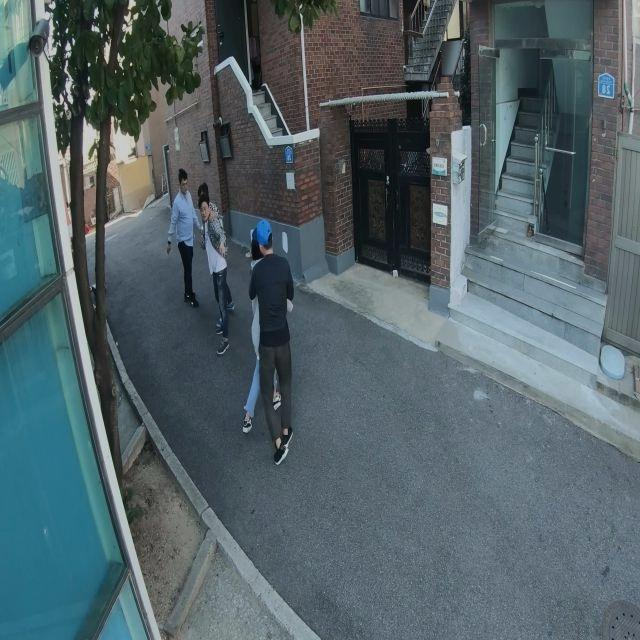fight: (199, 183, 299, 470)
non-fight: (168, 168, 199, 306)
